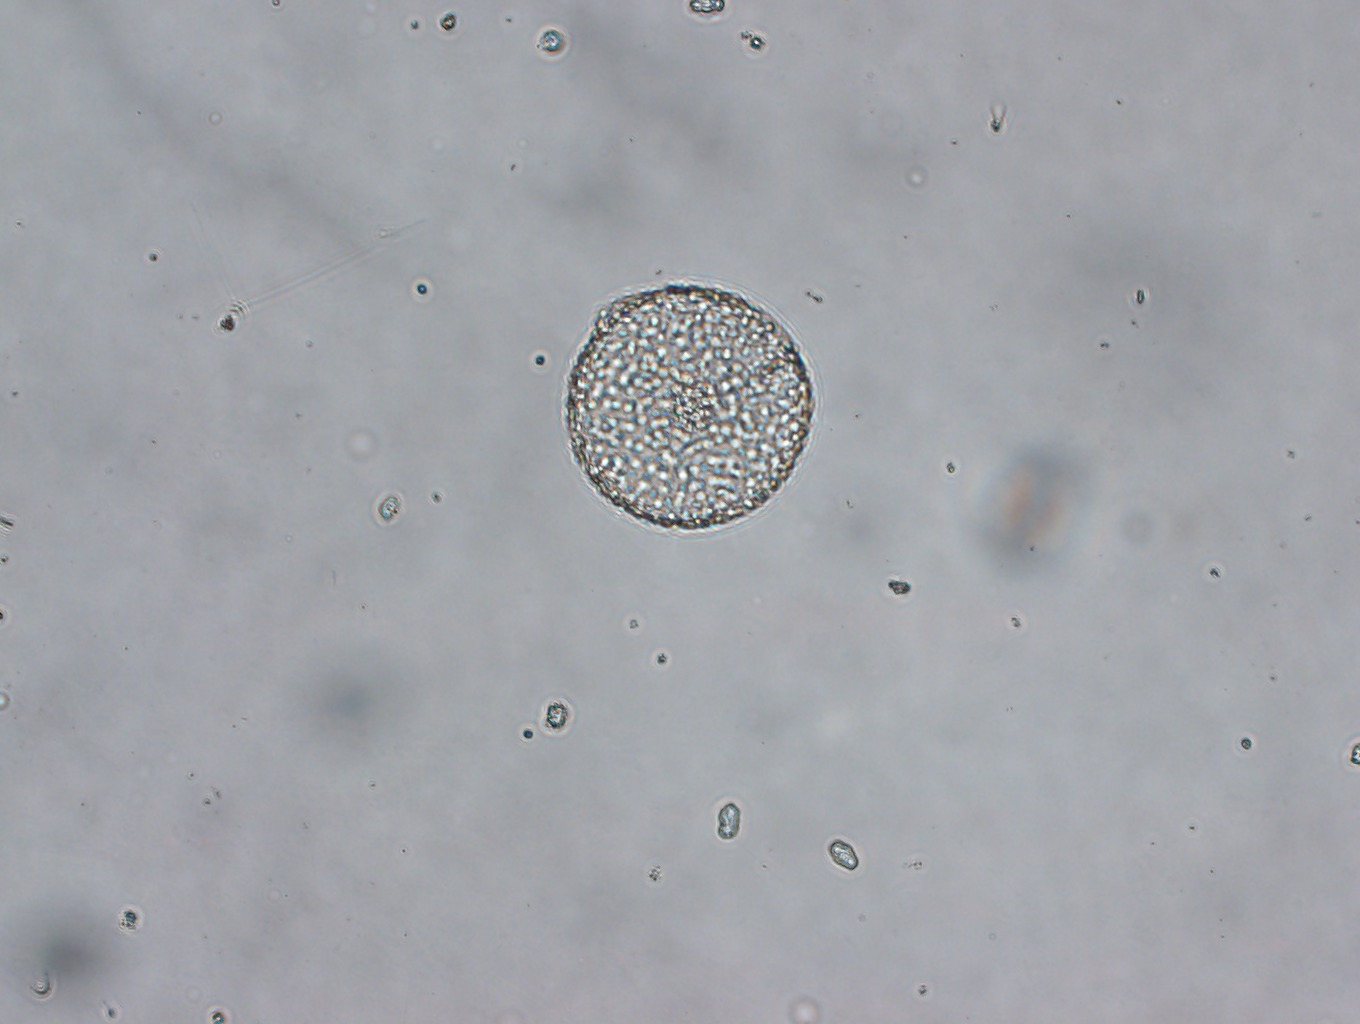coscinodiscus: (566, 278, 814, 529)
